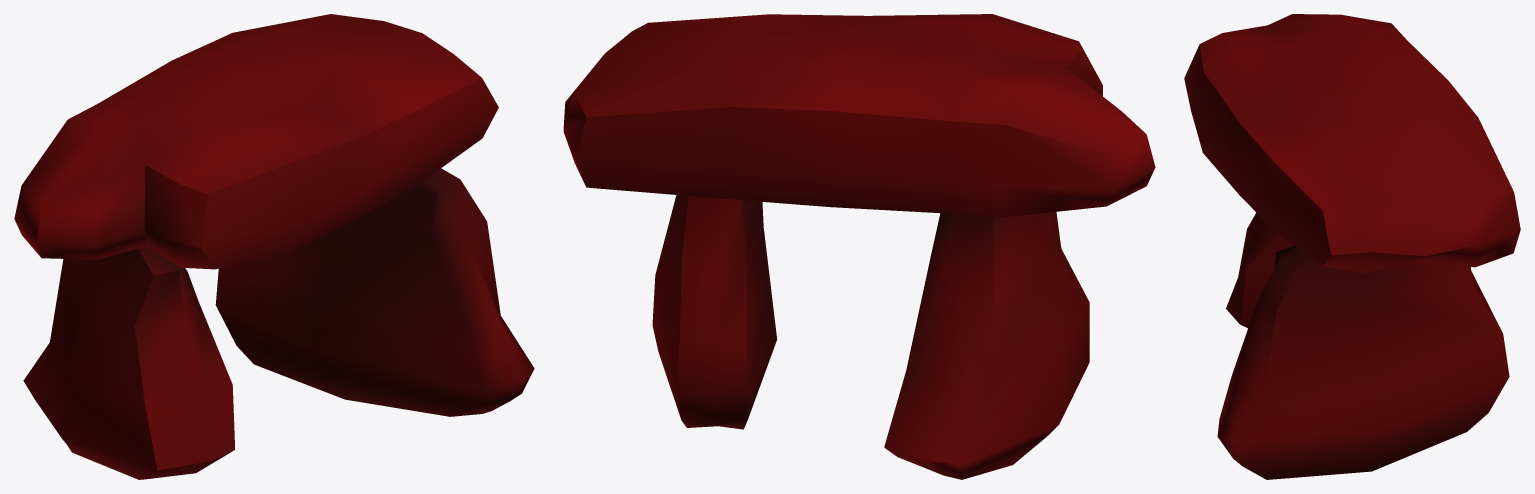
File: geology-carvedstone-dolmen_v5.fbx
The picture shows the model from 3 angles, left to right: view 1: azimuth 30°, elevation 25°; view 2: azimuth 150°, elevation 25°; view 3: azimuth 270°, elevation 25°; orthographic projection. The views are drawn at different scales.
Visible parts, largest first — view 1: Dolmen_v5; view 2: Dolmen_v5; view 3: Dolmen_v5.
Boxes of the visible parts, x1,y1,x2,y2 form: Dolmen_v5: [14, 14, 534, 479]; Dolmen_v5: [563, 14, 1155, 479]; Dolmen_v5: [1184, 14, 1520, 479].
Size of the model in its own units: 11.06 by 7.88 by 7.29.
